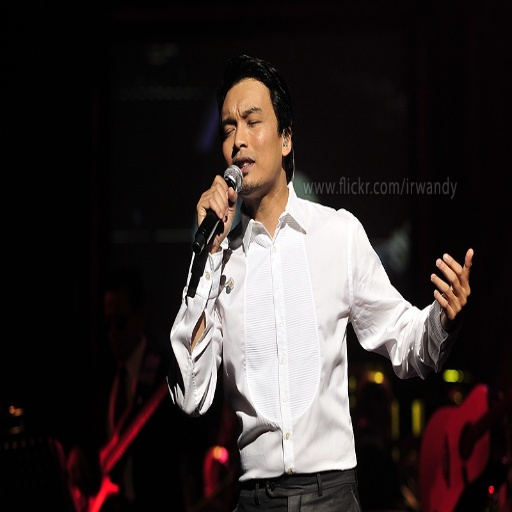hand: (430, 248, 475, 329), (195, 177, 239, 248)
